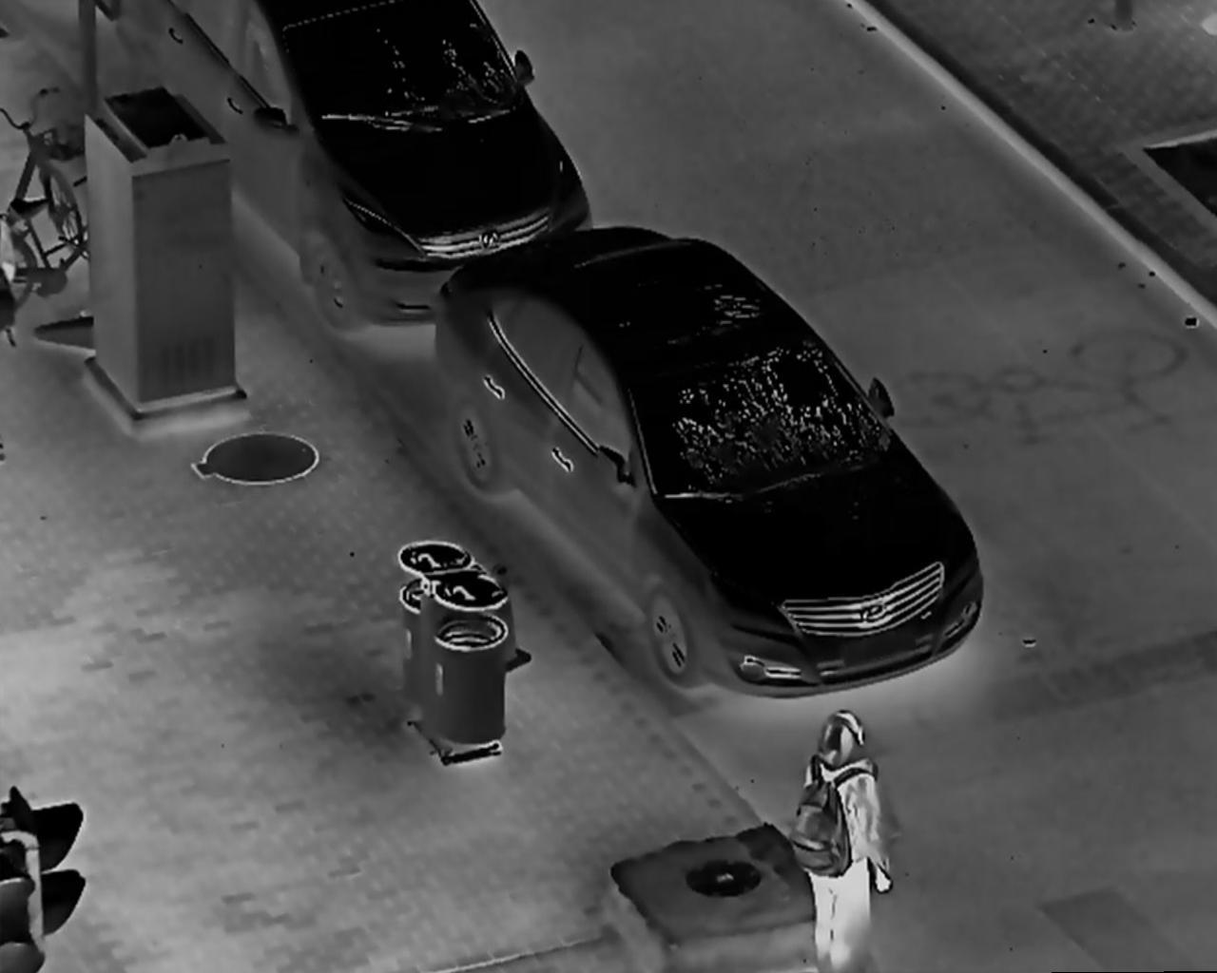person: (788, 702, 904, 973)
